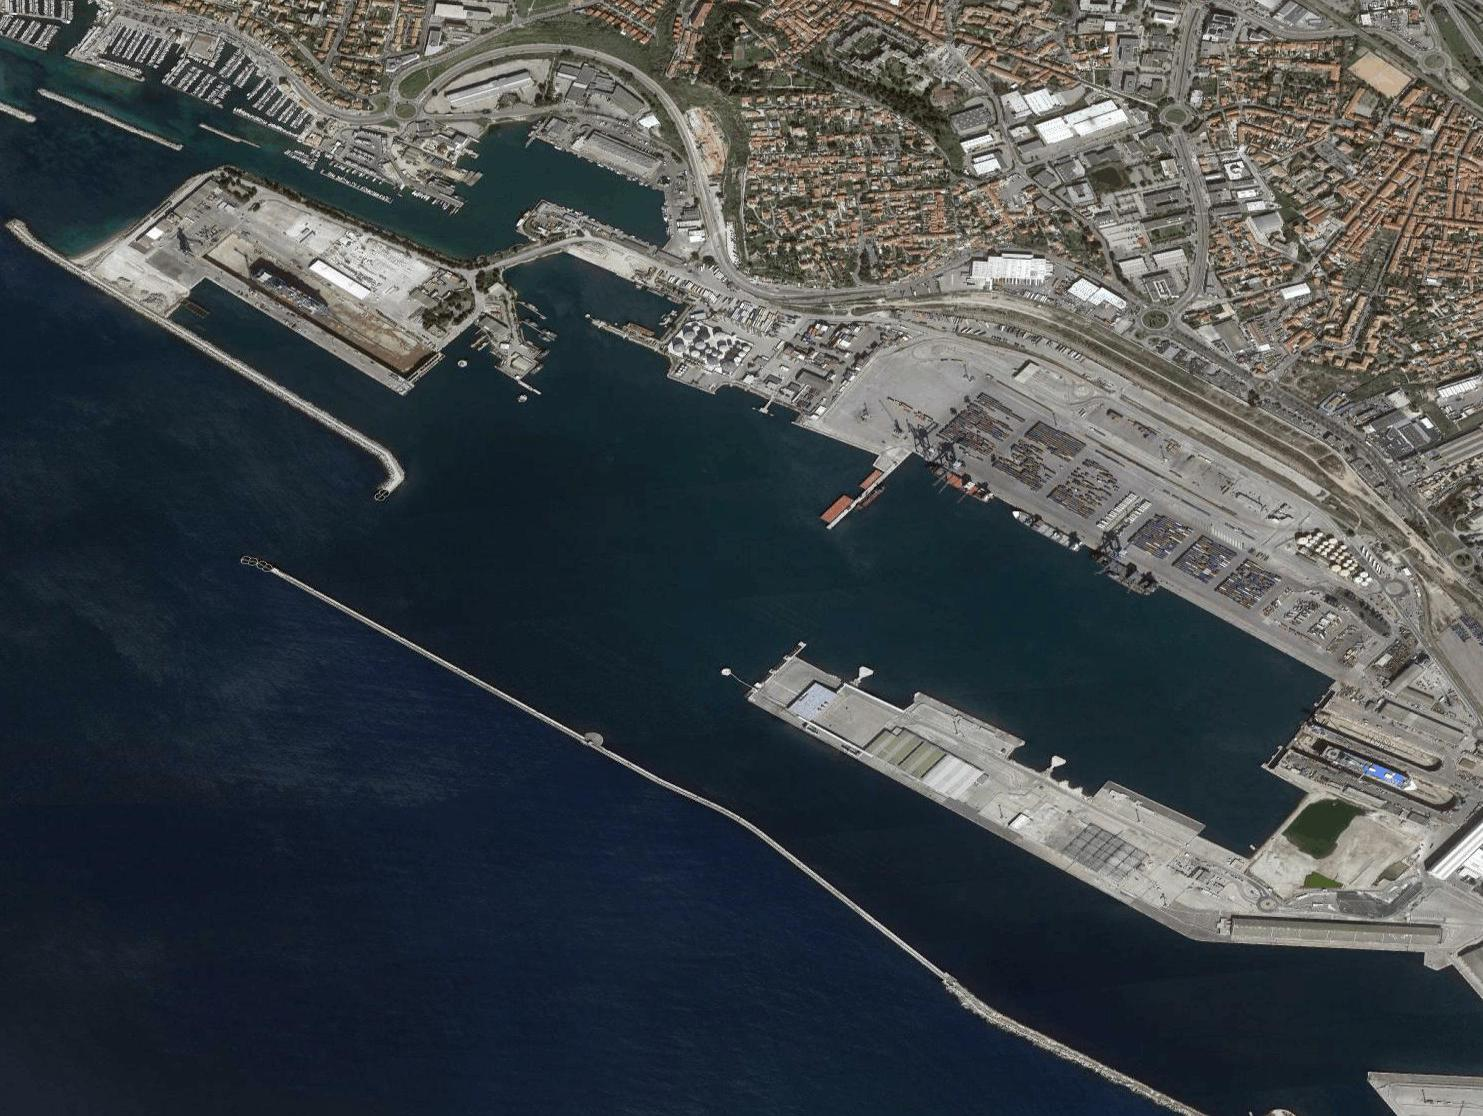harbor: (1, 30, 1474, 1006)
industrial: (923, 236, 1128, 343), (944, 75, 1134, 181)
